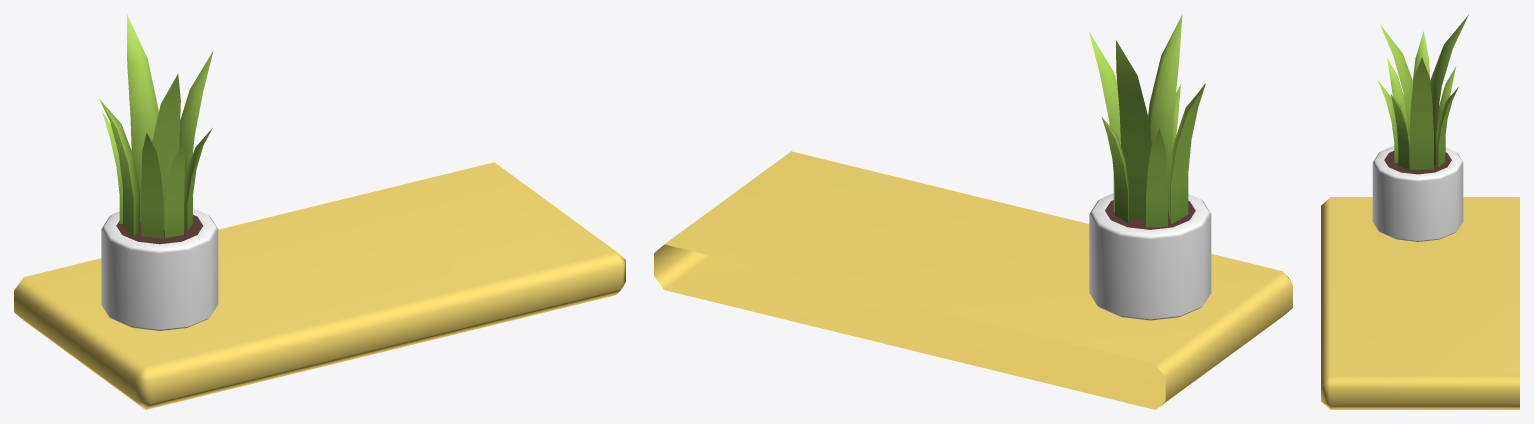
File: Decor_Ketreotuong.fbx
3 views of the same model, side by side, from view 1: azimuth 30°, elevation 25°; view 2: azimuth 150°, elevation 25°; view 3: azimuth 270°, elevation 25° (orthographic). The views are drawn at different scales.
Parts seen in each view (by area): view 1: Decor_Ketreotuong; view 2: Decor_Ketreotuong; view 3: Decor_Ketreotuong.
Boxes of the visible parts, left/top/right/bottom form: Decor_Ketreotuong: left=14, top=14, right=625, bottom=409; Decor_Ketreotuong: left=654, top=15, right=1292, bottom=409; Decor_Ketreotuong: left=1321, top=14, right=1519, bottom=409.
Bounding box in the file's own units: 93.22 × 56.99 × 42.08.
